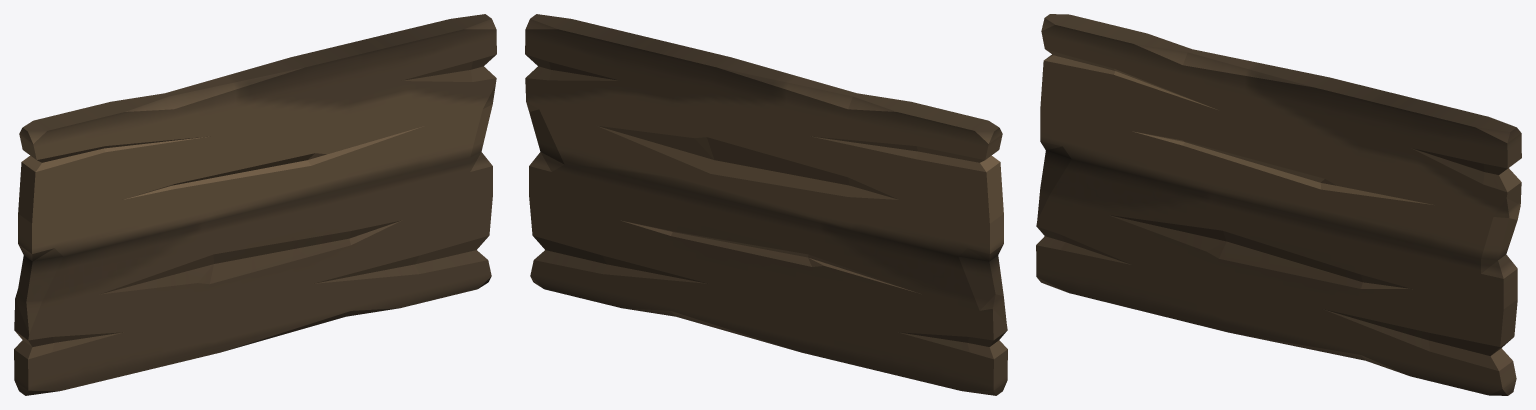
The model's file is SM_Prop_Sign_04.fbx.
3 renders of one model, left to right at view 1: azimuth 30°, elevation 25°; view 2: azimuth 150°, elevation 25°; view 3: azimuth 330°, elevation 25°, orthographic.
Visible parts, largest first — view 1: SM_Prop_Sign_04; view 2: SM_Prop_Sign_04; view 3: SM_Prop_Sign_04.
Part boxes in pixels (x1=…): SM_Prop_Sign_04: x1=14, y1=14, x2=496, y2=395; SM_Prop_Sign_04: x1=525, y1=14, x2=1007, y2=395; SM_Prop_Sign_04: x1=1036, y1=14, x2=1521, y2=395.
Size of the model in its own units: 103 by 55.77 by 5.36.
